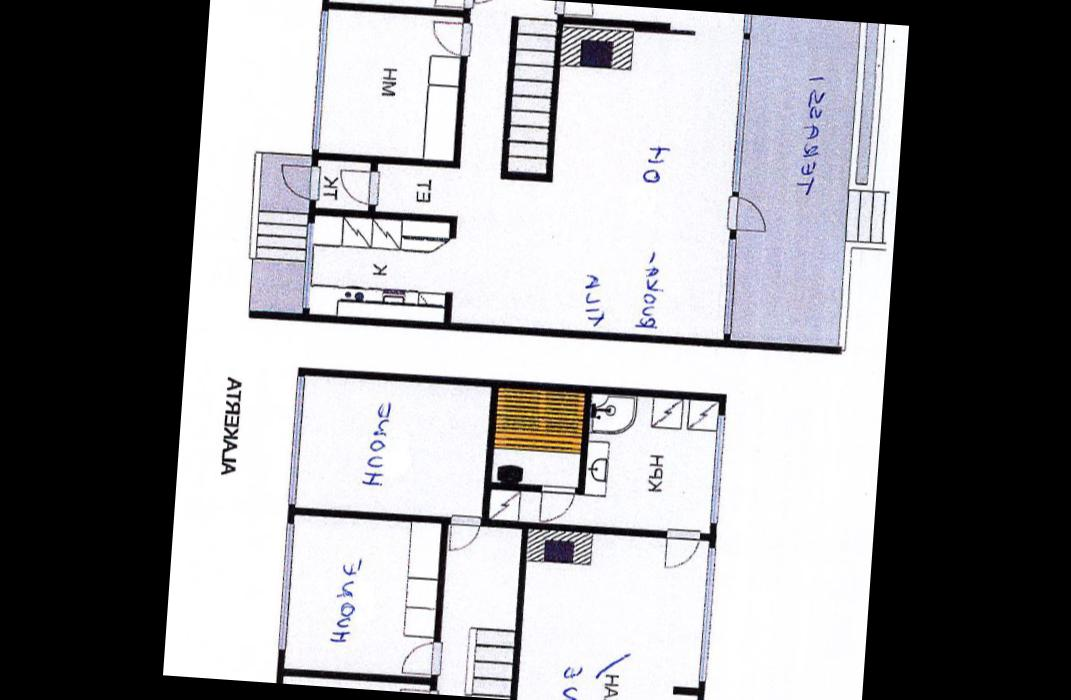door: (656, 522, 702, 572), (427, 15, 476, 56), (534, 481, 579, 524), (336, 164, 381, 206), (724, 192, 768, 233), (276, 160, 322, 199), (400, 636, 444, 676), (446, 511, 482, 555), (548, 0, 596, 16), (396, 683, 442, 694), (433, 0, 472, 7), (471, 0, 509, 6)
window: (724, 31, 753, 197), (281, 366, 308, 509), (272, 514, 298, 658), (696, 538, 720, 686), (309, 1, 330, 154), (704, 404, 729, 530), (714, 228, 742, 340), (297, 213, 318, 312)
